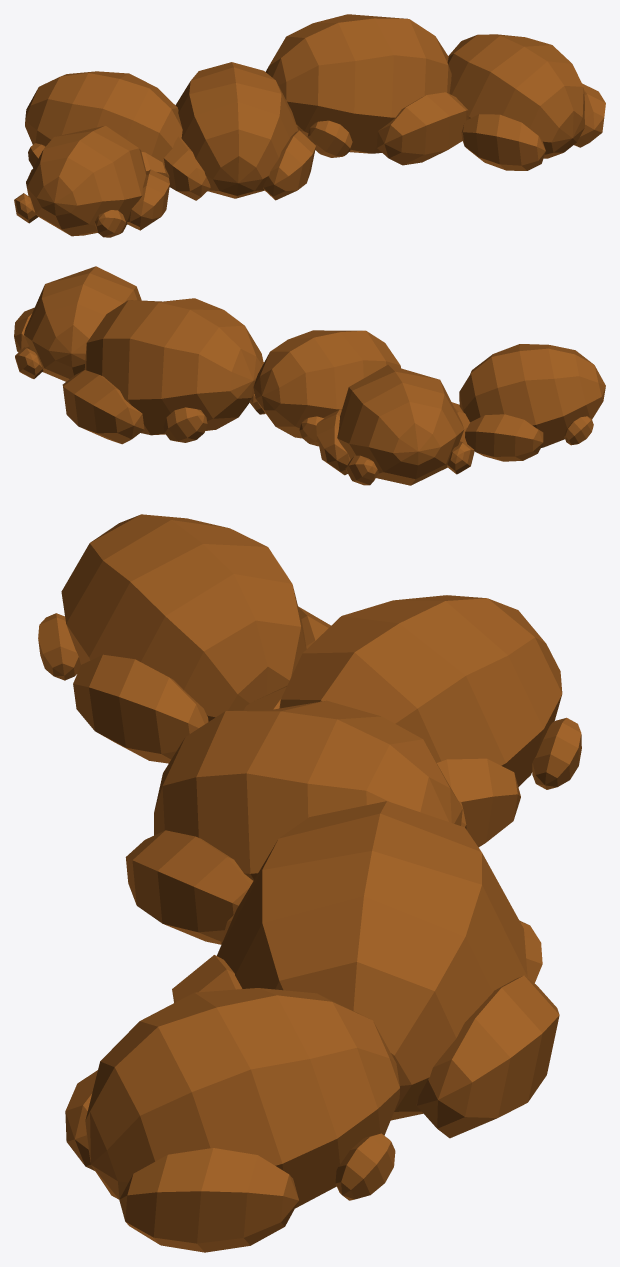
File: SM_FullShelf_Chicken.fbx
The picture shows the model from 3 angles, top to bottom: view 1: azimuth 30°, elevation 25°; view 2: azimuth 150°, elevation 25°; view 3: azimuth 270°, elevation 25°; orthographic projection. The views are drawn at different scales.
Visible parts, largest first — view 1: SM_RoastChicken_Fridge; view 2: SM_RoastChicken_Fridge; view 3: SM_RoastChicken_Fridge.
Boxes of the visible parts, bbox=[...] form: SM_RoastChicken_Fridge: bbox=[14, 14, 605, 237]; SM_RoastChicken_Fridge: bbox=[14, 266, 605, 485]; SM_RoastChicken_Fridge: bbox=[38, 514, 581, 1252].
Size of the model in its own units: 1.31 by 0.291 by 0.5411.
